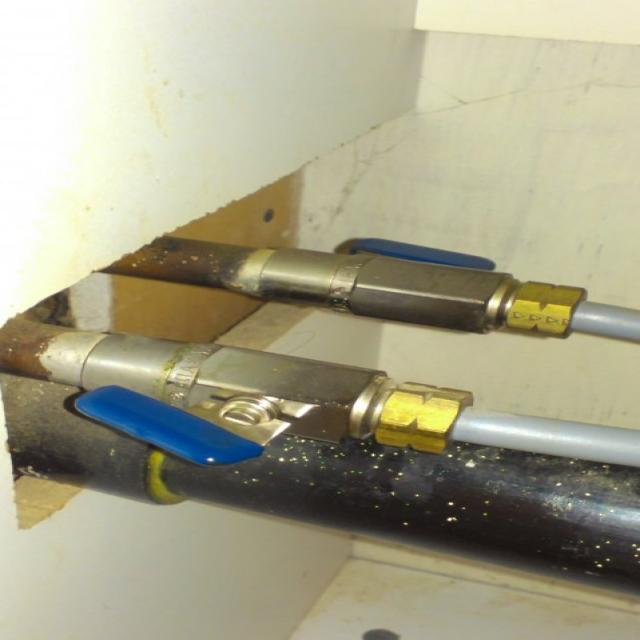Lever Handle Valve Threaded: (62, 328, 470, 468), (242, 235, 579, 341)
